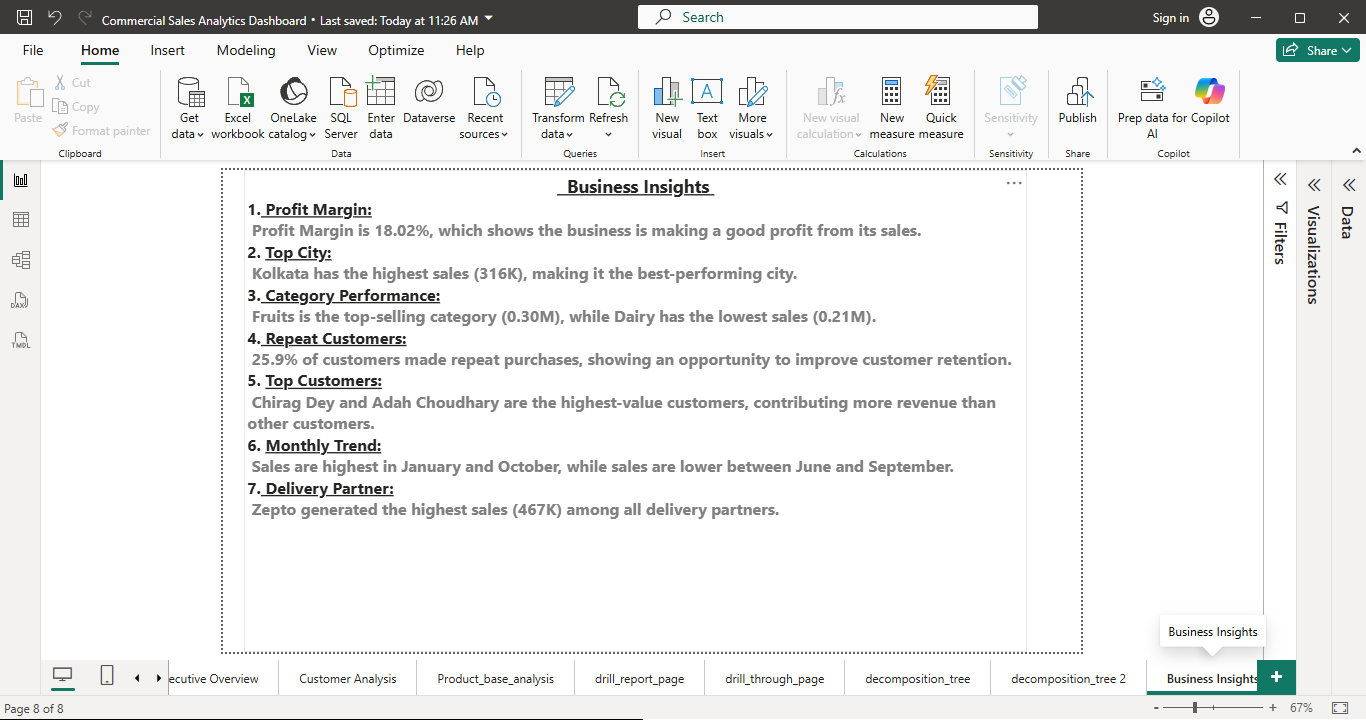

The dashboard page shown, as its layout file describes it:
{"tool":"powerbi","page":{"name":"Business Insights","canvas":[1280,720],"ordinal":7},"visuals":[{"type":"textbox","box":[30.7,0,1169.3,720],"z":0}]}

Visuals, with their boxes on the page's 1280x720 design canvas (x1, y1, x2, y2). These are canvas units, not pixel positions in the 1366x720 screenshot, which may show the page scaled, cropped or inside an application window:
textbox: 31:0:1200:720
